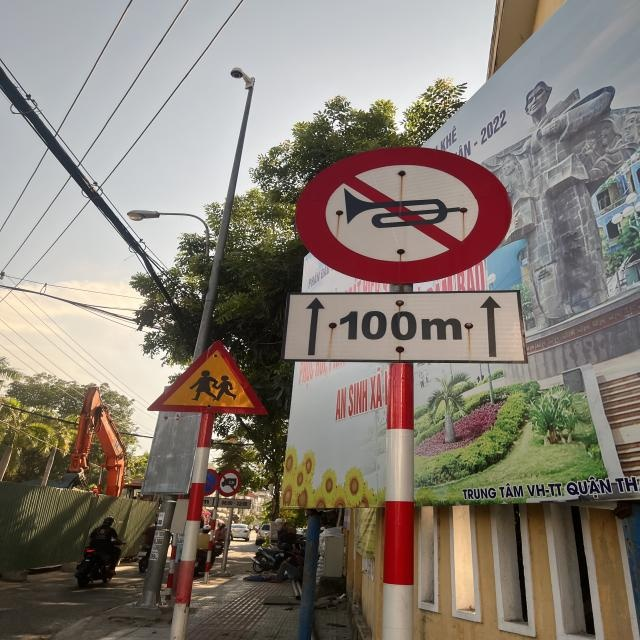bien_cam: (290, 148, 515, 284), (282, 294, 528, 362), (151, 343, 259, 414), (217, 470, 241, 497)
